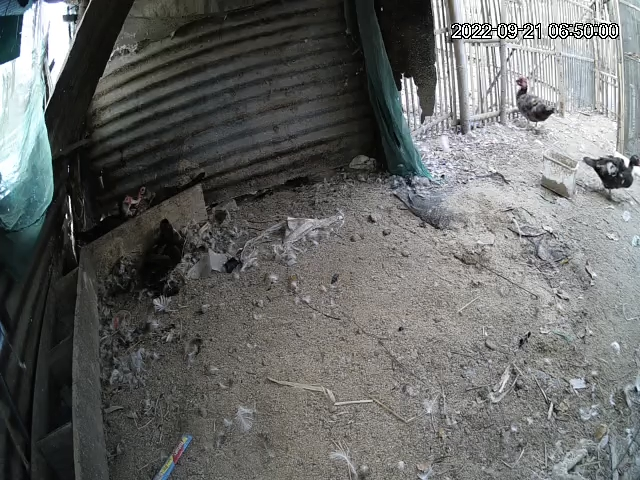Mengeram: (82, 175, 206, 244)
